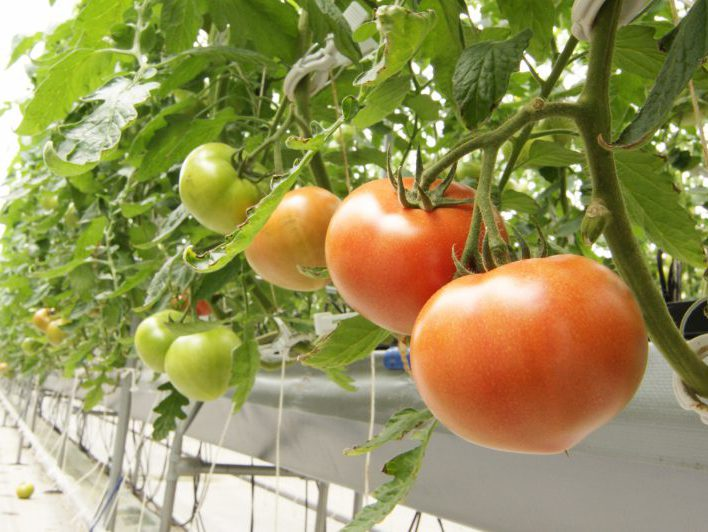stems: (416, 134, 488, 194), (479, 198, 512, 269)
tomato: (407, 253, 649, 455), (326, 174, 510, 337), (242, 185, 342, 295), (179, 143, 276, 234), (164, 326, 241, 399), (134, 309, 204, 372)
